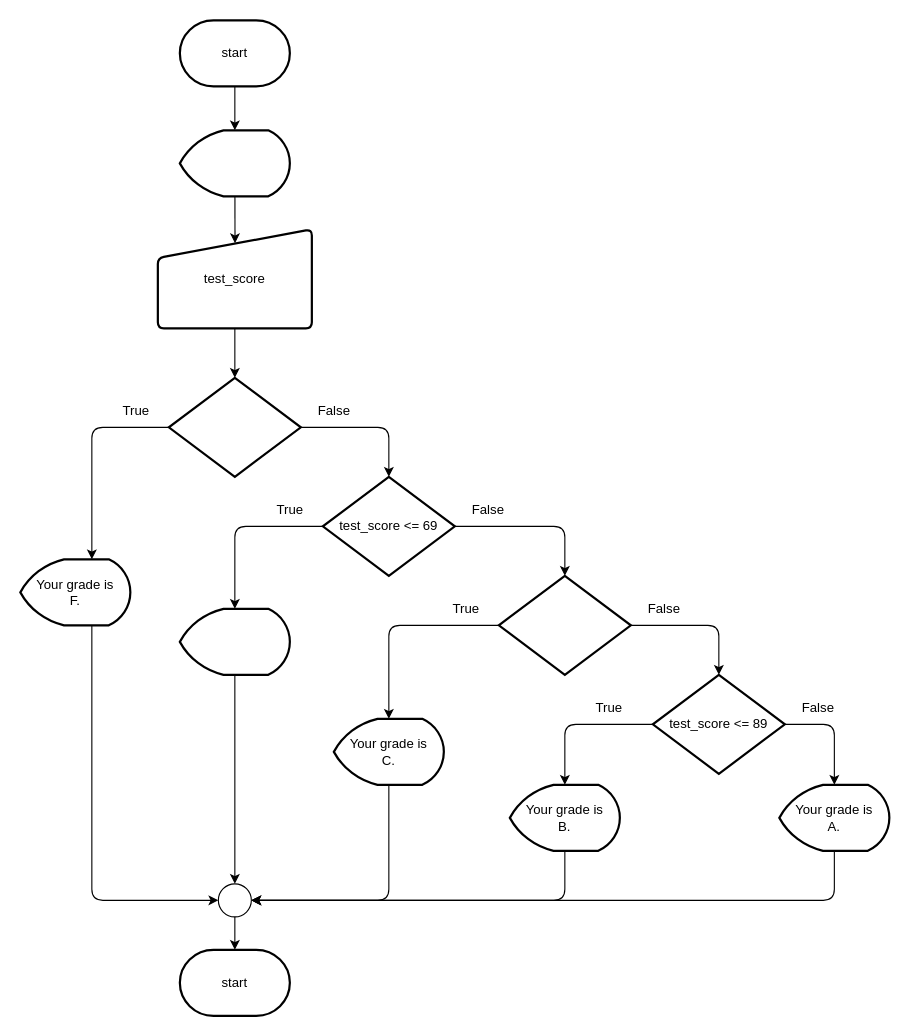
The diagram is 909 pixels wide and 1035 high, and some of its shapes have lost their labels. The box of each missing label's shape, as (x1, y1, x2, y2) in pixels:
Enter your test score:: (178, 129, 290, 197)
test_score <= 60: (167, 376, 301, 477)
test_score <= 79: (497, 574, 631, 675)
Your grade is D.: (178, 607, 290, 675)
